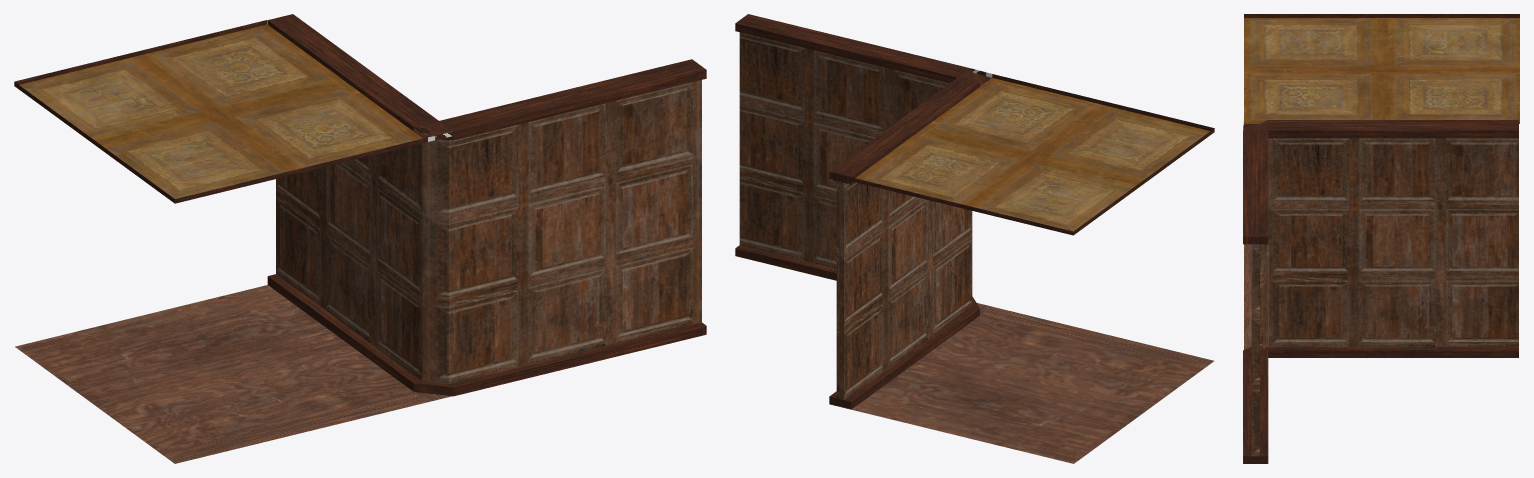
File: special.fbx
The picture shows the model from 3 angles, left to right: view 1: azimuth 30°, elevation 25°; view 2: azimuth 150°, elevation 25°; view 3: azimuth 270°, elevation 25°; orthographic projection. The views are drawn at different scales.
Parts seen in each view (by area): view 1: polySurface117; view 2: polySurface117; view 3: polySurface117.
Boxes of the visible parts, left/top/right/bottom form: polySurface117: left=14, top=14, right=706, bottom=463; polySurface117: left=735, top=14, right=1214, bottom=463; polySurface117: left=1243, top=14, right=1519, bottom=463.
Bounding box in the file's own units: 630 × 300 × 331.
